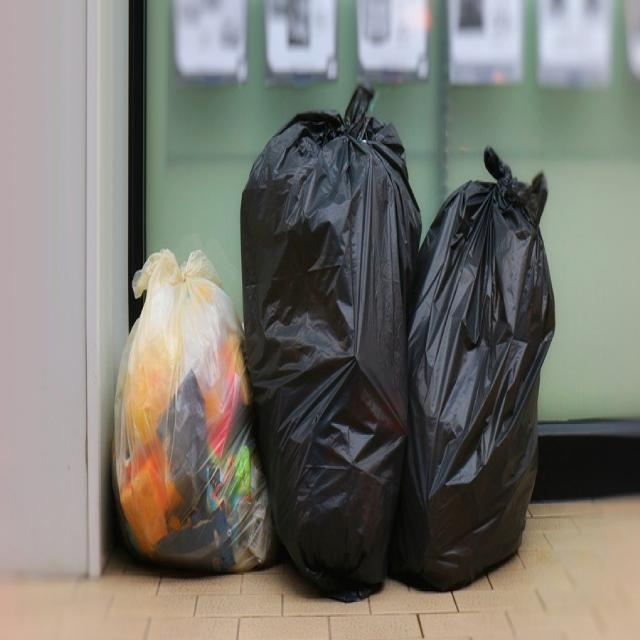Vinyl: (228, 86, 428, 618), (394, 140, 559, 602)
